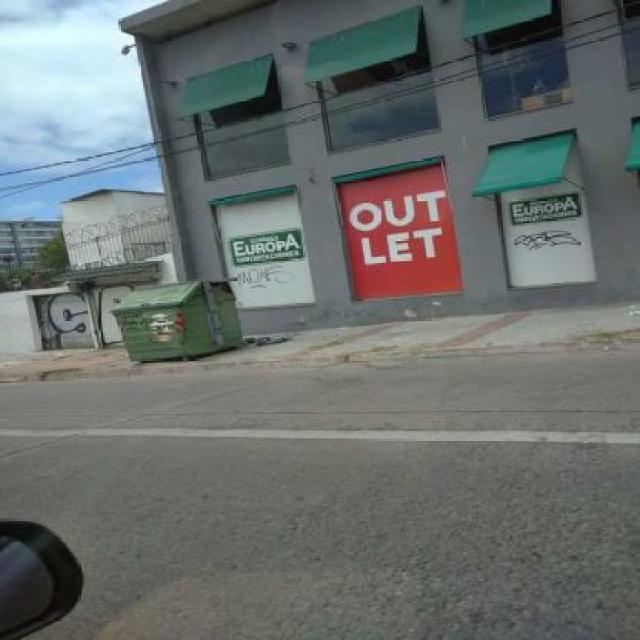garbage: (240, 328, 312, 344), (616, 302, 640, 318)
